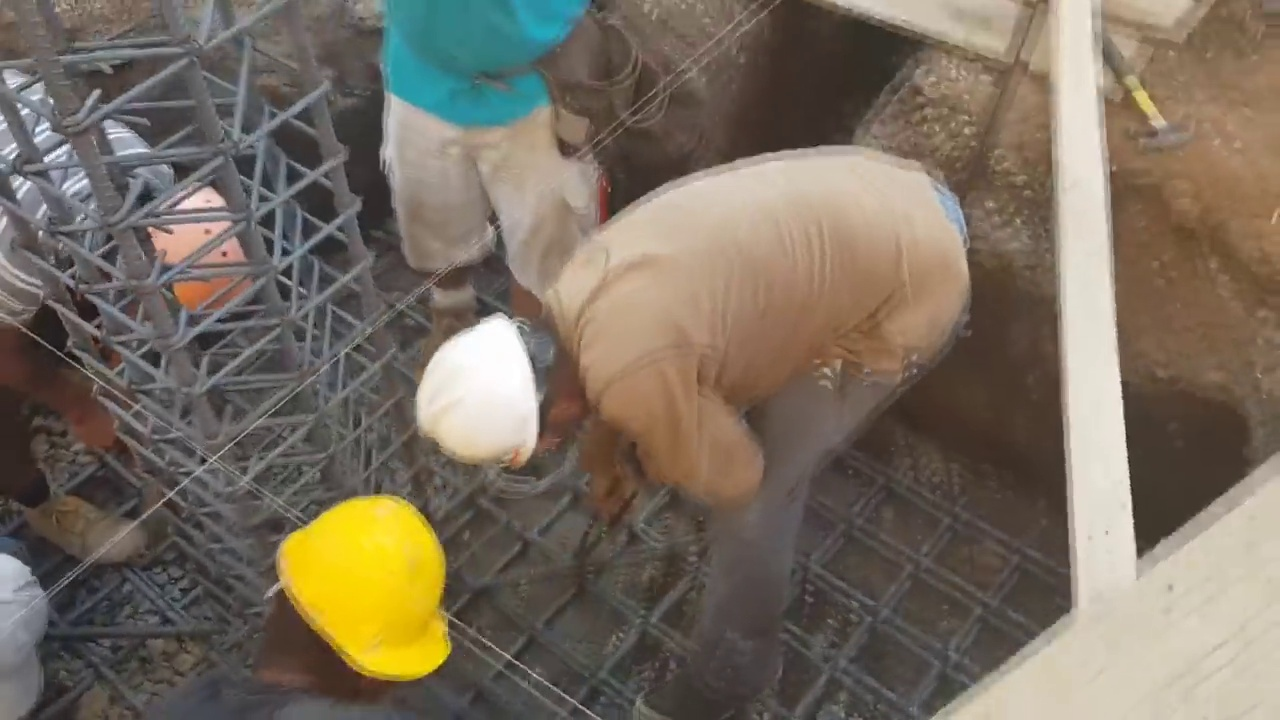helmet: (273, 496, 437, 682), (416, 320, 534, 478), (151, 183, 261, 321)
helmet-on: (241, 496, 456, 704), (417, 296, 601, 480), (90, 176, 264, 322)
person: (416, 147, 969, 719), (3, 64, 280, 573), (363, 0, 610, 299), (129, 496, 460, 719)
